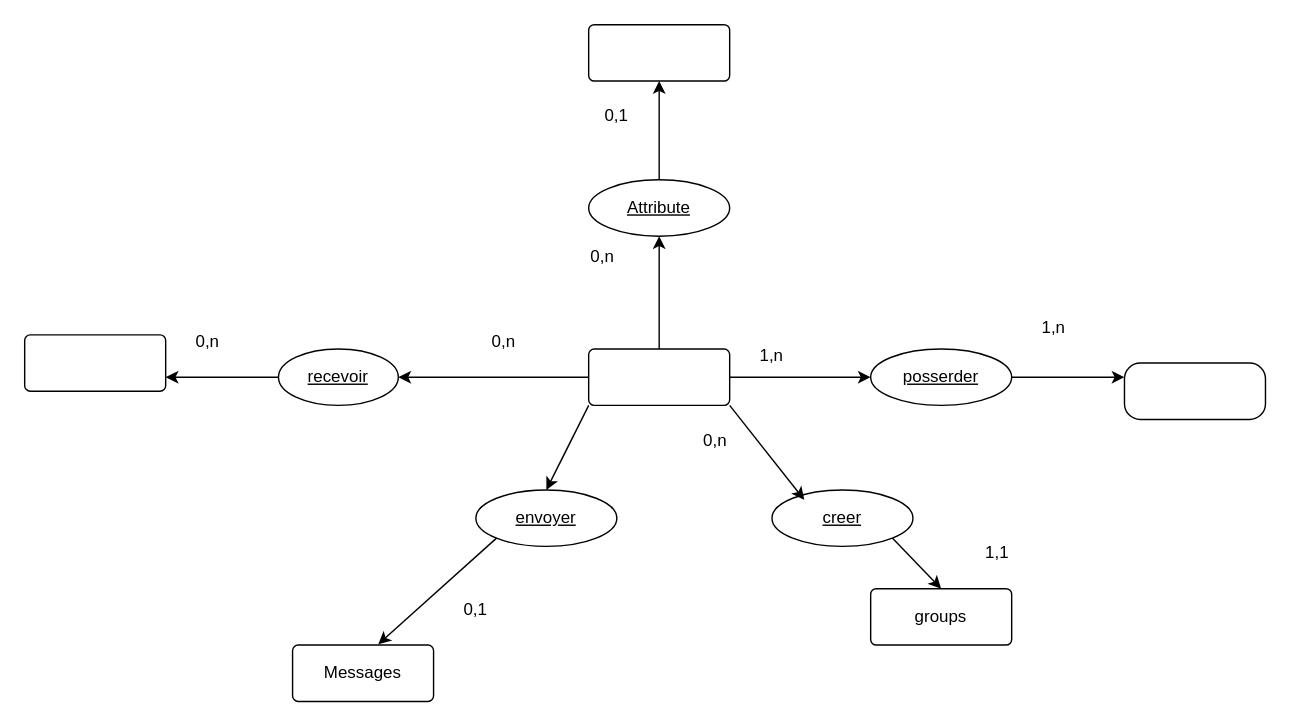
Some shapes in this 1290 by 726 pixel diagram are drawn without their labels. Here are the shapes that lost their labels. From the top down, the centre of each, then its label:
(658,52): Logs
(94,362): Notifications
(658,376): Users
(1194,390): Roles
